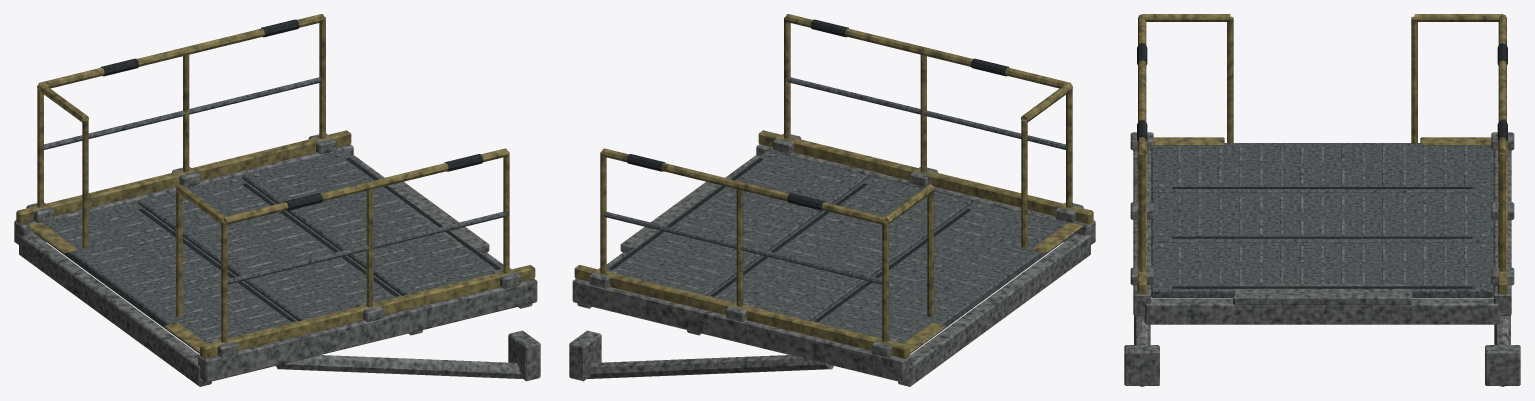
The model's file is eva_platform.glb.
3 views of the same model, side by side, from view 1: azimuth 30°, elevation 25°; view 2: azimuth 150°, elevation 25°; view 3: azimuth 270°, elevation 25° (orthographic).
Visible parts, largest first — view 1: PlatformDeck, PlatformRails, PlatformStructure; view 2: PlatformDeck, PlatformRails, PlatformStructure; view 3: PlatformDeck, PlatformStructure, PlatformRails.
Boxes of the visible parts, x1,y1,x2,y2 form: PlatformDeck: [27, 150, 502, 353]; PlatformRails: [16, 14, 535, 358]; PlatformStructure: [14, 144, 540, 386]; PlatformDeck: [607, 150, 1082, 353]; PlatformRails: [574, 14, 1093, 358]; PlatformStructure: [569, 144, 1095, 386]; PlatformDeck: [1151, 137, 1493, 305]; PlatformStructure: [1124, 150, 1520, 386]; PlatformRails: [1130, 14, 1514, 294].
Size of the model in its own units: 2.98 by 1.99 by 3.1.
9 materials, 9 textured.
